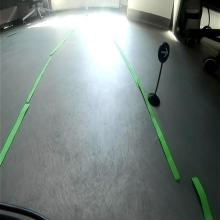right: (158, 41, 170, 64)
